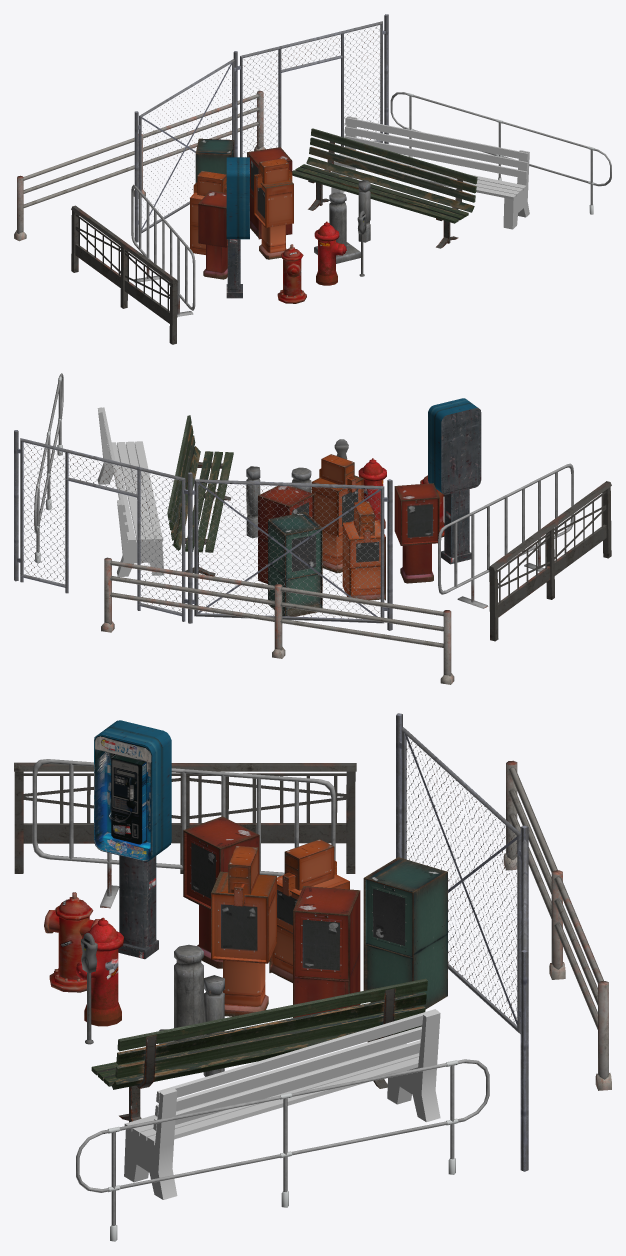
Rendered from Urban_stuff.fbx.
3 views of the same model, one above another, from view 1: azimuth 30°, elevation 25°; view 2: azimuth 150°, elevation 25°; view 3: azimuth 270°, elevation 25° (orthographic). The views are drawn at different scales.
Visible parts, largest first — view 1: DP_TNR_Bench_1, DP_TNR_Bench_2, DP_TNR_WireFence_2, SP_TNR_MetalFence_1, SP_TNR_MetalFence_2, DP_TNR_NewspaperV_1, WT_PhoneBox1, DP_TNR_WireFence_1, DP_TNR_NewspaperV_3, DP_AFG_Metalfence_1, DP_AFG_Metalfence_2, SP_TNR_Hydrant_1_ncl1_1 (+6 smaller); view 2: DP_TNR_WireFence_1, DP_TNR_WireFence_2, SP_TNR_MetalFence_2, WT_PhoneBox1, SP_TNR_MetalFence_1, DP_TNR_Bench_2, DP_TNR_NewspaperV_2, DP_TNR_Bench_1, DP_TNR_NewspaperV_3, DP_TNR_NewspaperV_1, DP_TNR_NewspaperV_4, DP_AFG_Metalfence_1 (+4 smaller); view 3: DP_TNR_Bench_2, DP_TNR_Bench_1, WT_PhoneBox1, SP_TNR_MetalFence_1, DP_TNR_NewspaperV_2, DP_TNR_NewspaperV_1, DP_TNR_WireFence_1, SP_TNR_MetalFence_2, DP_TNR_NewspaperV_5, DP_AFG_Metalfence_2, DP_TNR_NewspaperV_3, DP_AFG_Metalfence_1 (+7 smaller).
Part boxes in pixels (x1,y1,x2,y2): DP_TNR_Bench_1: (292, 128, 477, 248); DP_TNR_Bench_2: (331, 116, 529, 229); DP_TNR_WireFence_2: (233, 14, 388, 157); SP_TNR_MetalFence_1: (71, 205, 177, 344); SP_TNR_MetalFence_2: (14, 90, 265, 241); DP_TNR_NewspaperV_1: (254, 158, 293, 259); WT_PhoneBox1: (226, 157, 249, 298); DP_TNR_WireFence_1: (134, 59, 236, 242); DP_TNR_NewspaperV_3: (198, 190, 227, 279); DP_AFG_Metalfence_1: (131, 184, 195, 316); DP_AFG_Metalfence_2: (390, 92, 611, 214); SP_TNR_Hydrant_1_ncl1_1: (314, 221, 346, 285); DP_TNR_WireFence_1: (192, 479, 392, 630); DP_TNR_WireFence_2: (14, 430, 192, 623); SP_TNR_MetalFence_2: (101, 557, 454, 684); WT_PhoneBox1: (428, 398, 481, 564); SP_TNR_MetalFence_1: (488, 481, 611, 641); DP_TNR_Bench_2: (97, 407, 164, 576); DP_TNR_NewspaperV_2: (268, 512, 322, 616); DP_TNR_Bench_1: (167, 415, 233, 576); DP_TNR_NewspaperV_3: (394, 483, 439, 583); DP_TNR_NewspaperV_1: (311, 454, 363, 573); DP_TNR_NewspaperV_4: (342, 501, 385, 602); DP_AFG_Metalfence_1: (438, 463, 573, 608); DP_TNR_Bench_2: (124, 1009, 440, 1199); DP_TNR_Bench_1: (91, 978, 427, 1122); WT_PhoneBox1: (94, 720, 171, 959); SP_TNR_MetalFence_1: (14, 762, 356, 873); DP_TNR_NewspaperV_2: (363, 857, 447, 1009); DP_TNR_NewspaperV_1: (211, 846, 276, 1016); DP_TNR_WireFence_1: (396, 713, 520, 1033); SP_TNR_MetalFence_2: (503, 760, 611, 1090); DP_TNR_NewspaperV_5: (293, 886, 360, 1017); DP_AFG_Metalfence_2: (76, 1059, 489, 1241); DP_TNR_NewspaperV_3: (183, 816, 259, 968); DP_AFG_Metalfence_1: (32, 759, 335, 908).
Size of the model in its own units: 752 by 202 by 493.
